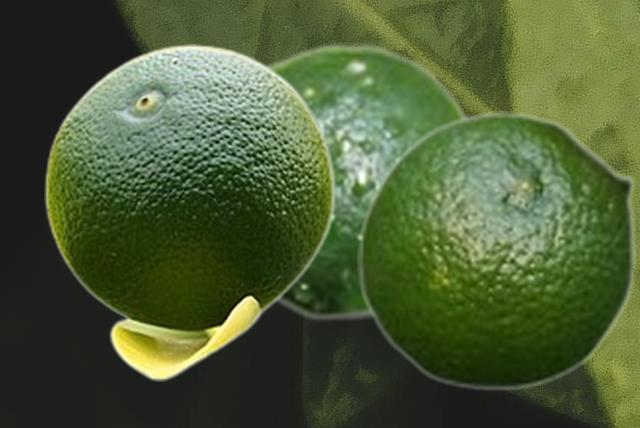calamansi: (44, 44, 335, 380), (357, 111, 637, 391), (261, 42, 474, 322)
